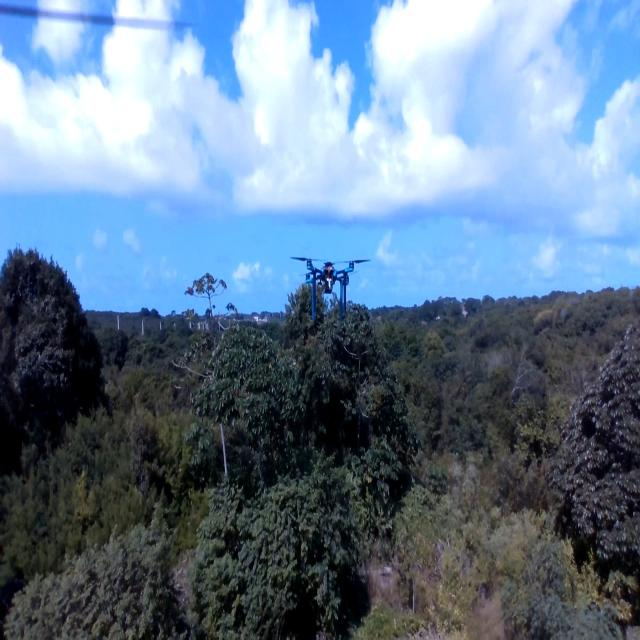-uav-: (286, 243, 374, 336)
